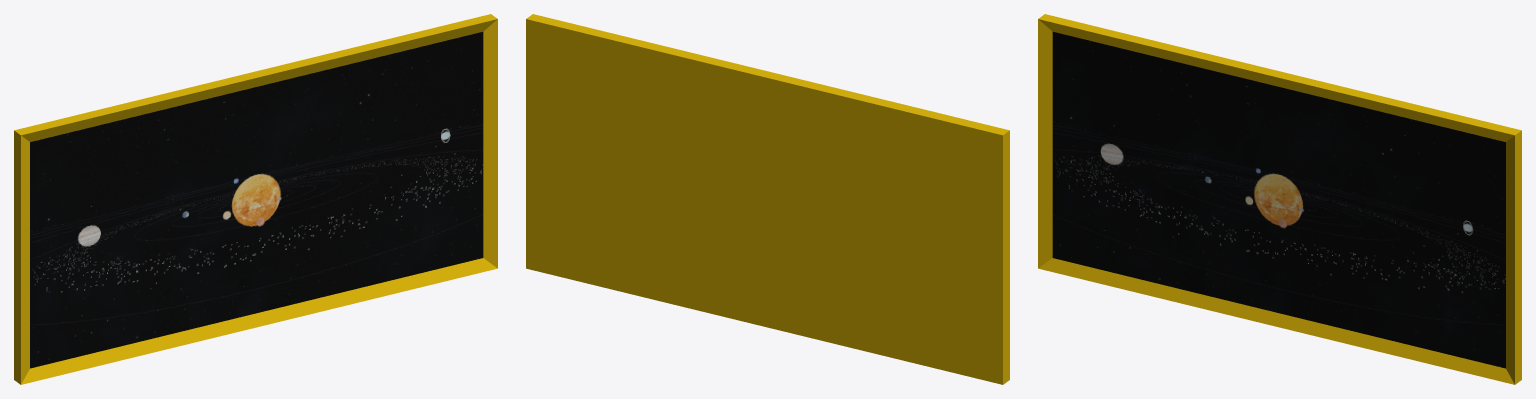
The model's file is solar_system_frame.gltf.
3 views of the same model, side by side, from view 1: azimuth 30°, elevation 25°; view 2: azimuth 150°, elevation 25°; view 3: azimuth 330°, elevation 25° (orthographic).
Visible parts, largest first — view 1: SolarSystemFrame, Cube; view 2: Cube; view 3: SolarSystemFrame, Cube.
Boxes of the visible parts, left/top/right/bottom form: SolarSystemFrame: left=30, top=32, right=483, bottom=368; Cube: left=14, top=14, right=497, bottom=384; Cube: left=526, top=14, right=1009, bottom=384; SolarSystemFrame: left=1052, top=32, right=1505, bottom=368; Cube: left=1038, top=14, right=1521, bottom=384.
Size of the model in its own units: 4 by 2 by 0.1.
Materials: 2 (1 with a texture image).
